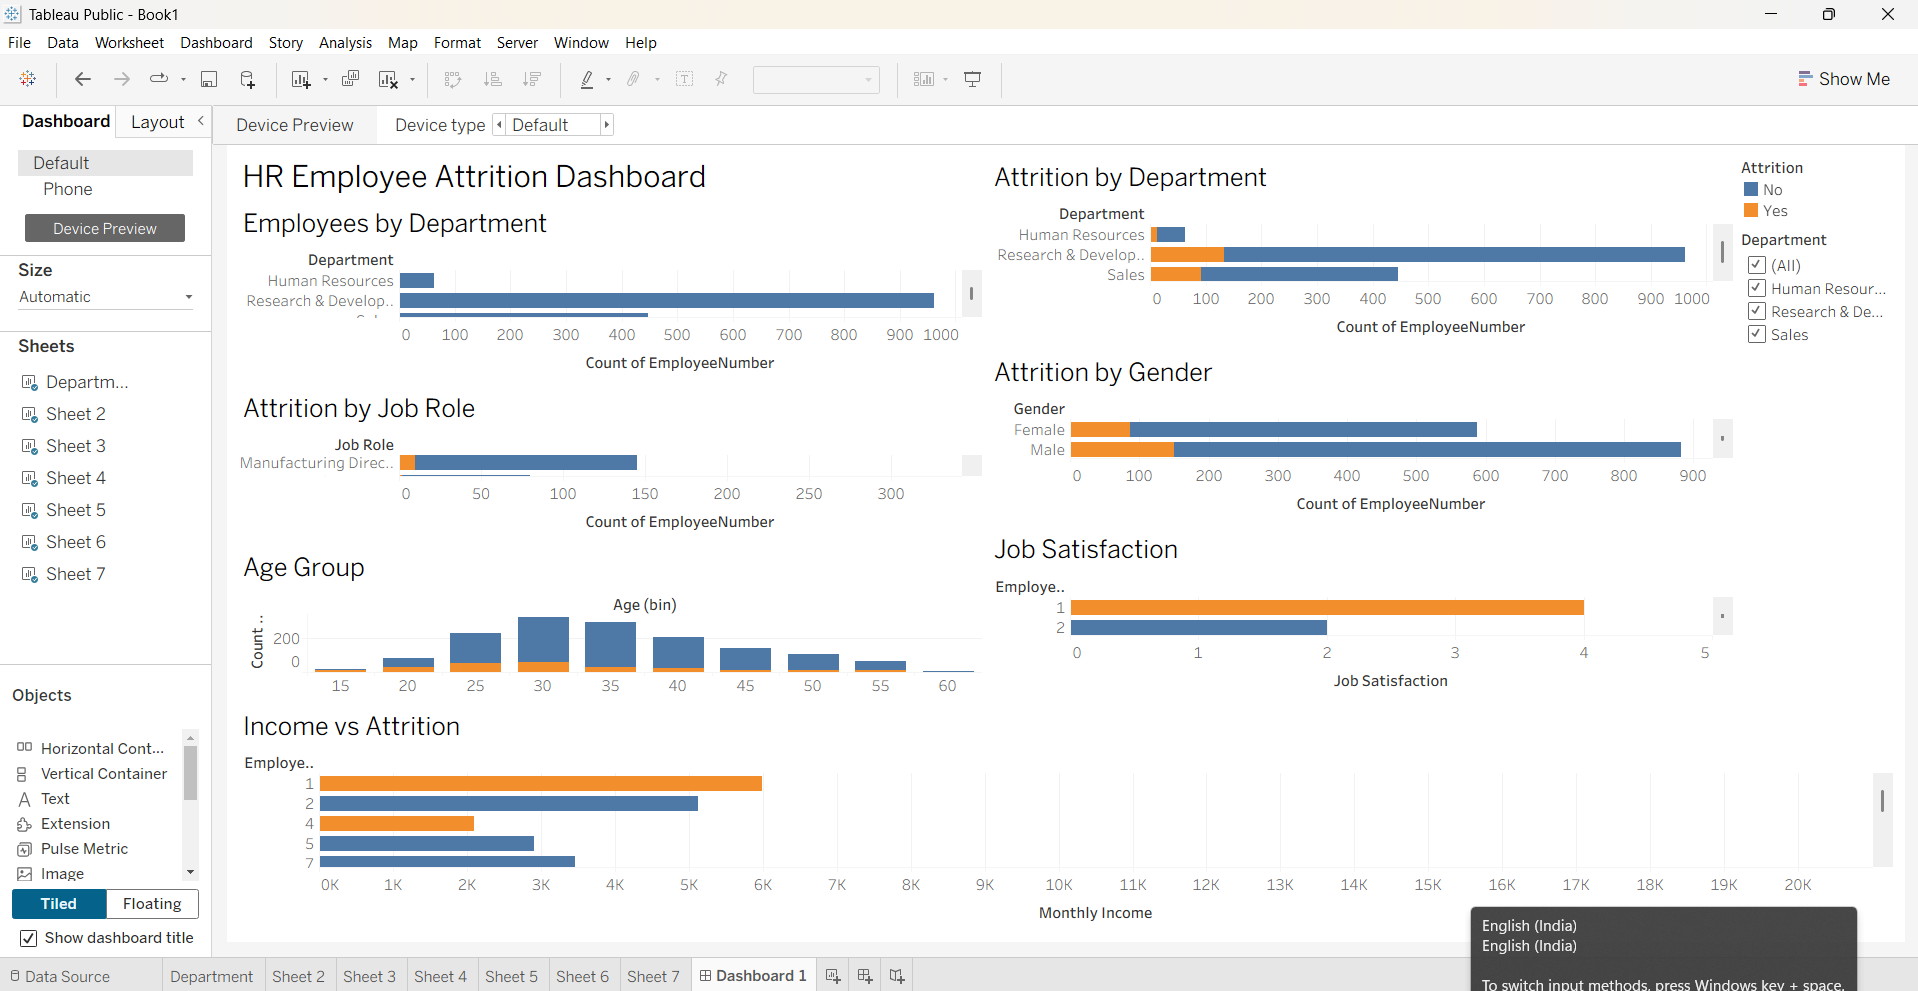

Layout of this report page (visuals, bound fields, positions):
{"tool":"tableau","page":{"name":"Dashboard 1","canvas":[1000,1000],"units":"permille","ordinal":0},"visuals":[{"type":"title","box":[4.8,10,447.5,57.7]},{"type":"worksheet","title":"Sheet 2","mark":"Automatic","rows":["Department"],"cols":["EmployeeNumber"],"box":[452.3,10,447.6,244.8]},{"type":"legend","title":"Sheet 4","param":"[federated.1h5zae01jtxgbl1ewzwyo0wmy6wk].[none:Attrition:nk]","box":[899.9,10,95.4,90.3]},{"type":"worksheet","title":"Department","mark":"Bar","rows":["Department"],"cols":["EmployeeNumber"],"box":[4.8,67.8,447.5,232.1]},{"type":"filter","title":"Department","param":"[federated.1h5zae01jtxgbl1ewzwyo0wmy6wk].[none:Department:nk]","box":[899.9,100.4,95.4,160.6]},{"type":"worksheet","title":"Sheet 4","mark":"Automatic","rows":["Gender"],"cols":["EmployeeNumber"],"box":[452.3,254.8,447.6,222]},{"type":"worksheet","title":"Sheet 3","mark":"Automatic","rows":["JobRole"],"cols":["EmployeeNumber"],"box":[4.8,299.9,447.5,199.5]},{"type":"worksheet","title":"Sheet 6","mark":"Automatic","rows":["EmployeeNumber"],"cols":["JobSatisfaction"],"box":[452.3,476.8,447.6,222]},{"type":"worksheet","title":"Sheet 5","mark":"Automatic","rows":["EmployeeNumber"],"cols":["Age (bin)"],"box":[4.8,499.4,447.5,199.5]},{"type":"worksheet","title":"Sheet 7","mark":"Automatic","rows":["EmployeeNumber"],"cols":["MonthlyIncome"],"box":[4.8,698.9,990.5,291.1]}]}

Visuals, with their boxes on the dashboard's canvas, which has no fixed pixel size, in thousandths of its width and height (x1, y1, x2, y2). These are canvas units, not pixel positions in the 1918x991 screenshot, which may show the page scaled, cropped or inside an application window:
title: <bbox>5, 10, 452, 68</bbox>
"Sheet 2" worksheet: <bbox>452, 10, 900, 255</bbox>
"Sheet 4" legend: <bbox>900, 10, 995, 100</bbox>
"Department" worksheet (Bar marks): <bbox>5, 68, 452, 300</bbox>
"Department" filter: <bbox>900, 100, 995, 261</bbox>
"Sheet 4" worksheet: <bbox>452, 255, 900, 477</bbox>
"Sheet 3" worksheet: <bbox>5, 300, 452, 499</bbox>
"Sheet 6" worksheet: <bbox>452, 477, 900, 699</bbox>
"Sheet 5" worksheet: <bbox>5, 499, 452, 699</bbox>
"Sheet 7" worksheet: <bbox>5, 699, 995, 990</bbox>
